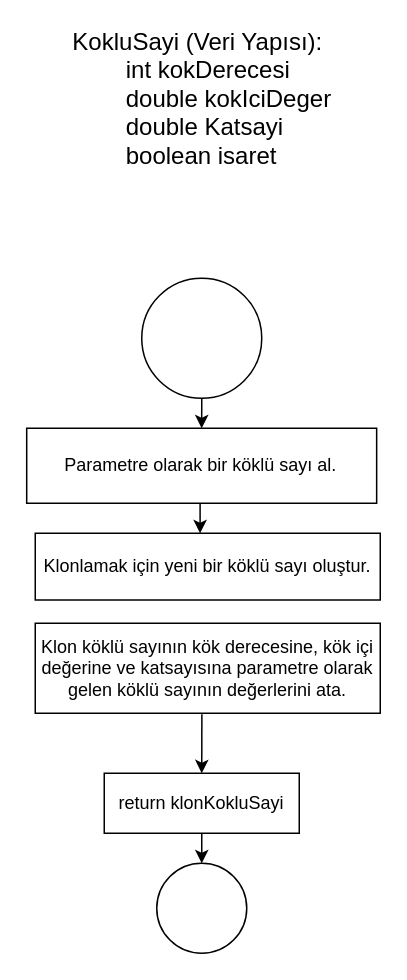
The diagram is 407 pixels wide and 980 high, and some of its shapes have lost their labels. The shapes that lost their labels are listed below. From the top down, each one's centre as x and y in pixels, then its label:
the point at 201,337: Başla
the point at 201,907: Bitir
